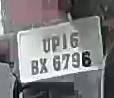1: (60, 33, 69, 51)
6: (80, 50, 92, 69), (70, 32, 81, 50), (53, 55, 63, 73)
7: (61, 52, 70, 72)
9: (69, 52, 82, 70)
B: (30, 59, 40, 77)
P: (50, 34, 60, 53)
U: (41, 37, 52, 55)
X: (39, 58, 49, 76)
